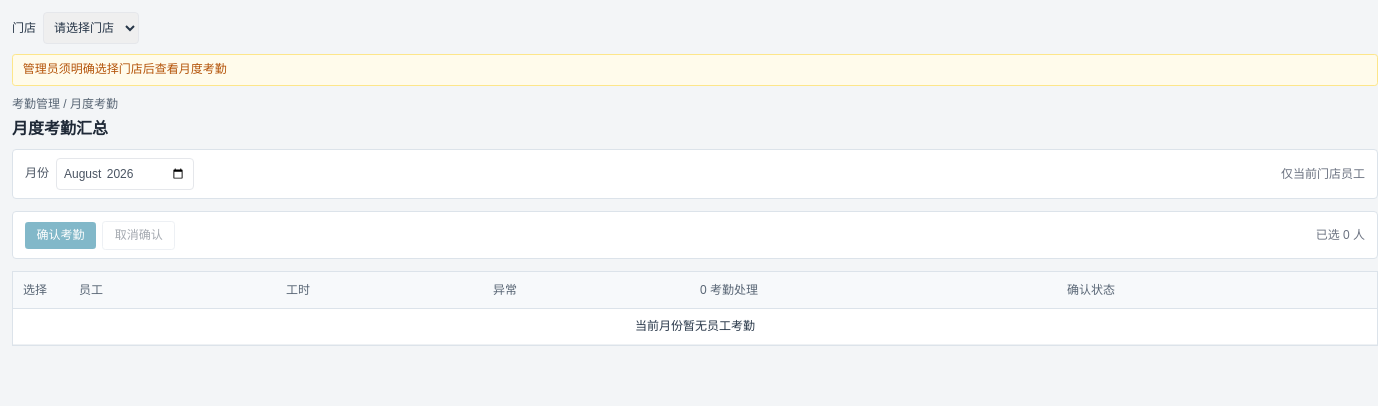
keeps the newest admin store when the previous scope rejects late
Select "A 店" in the dropdown named "选择门店" at [90, 28], box [42,12,138,44]
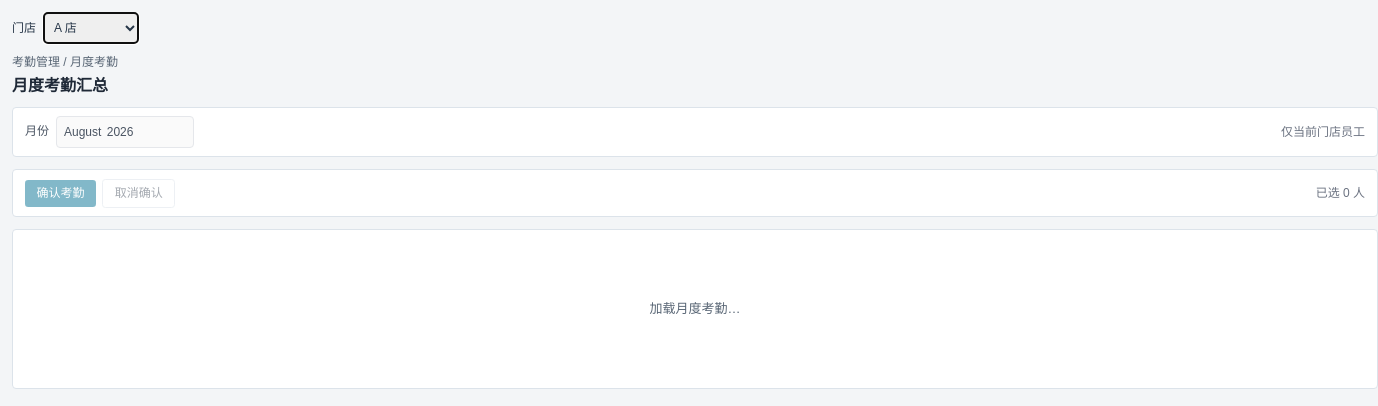
Select "B 店" in the dropdown named "选择门店" at [90, 28], box [42,12,138,44]
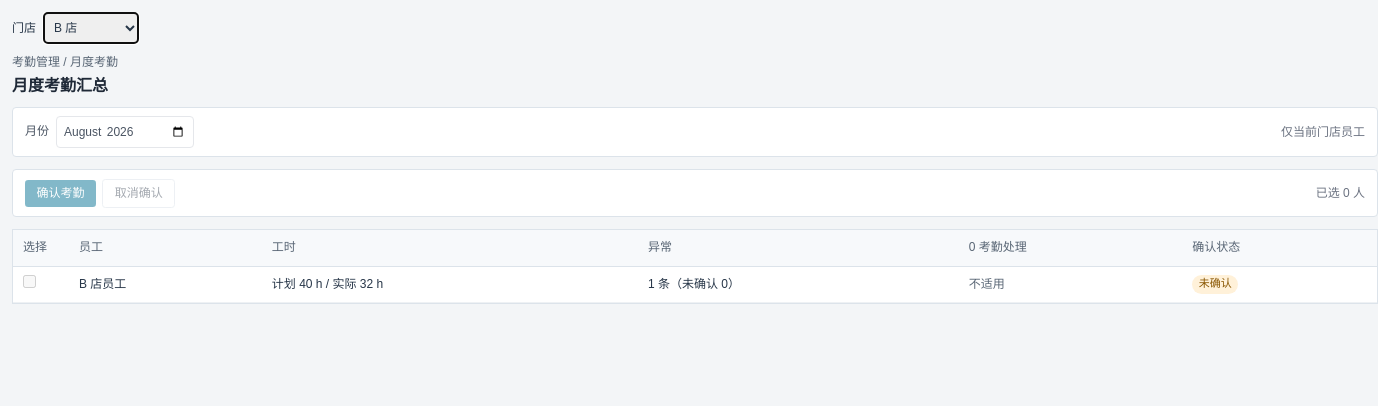
Check: the text "B 店员工" is shown, box [69,266,262,302]
